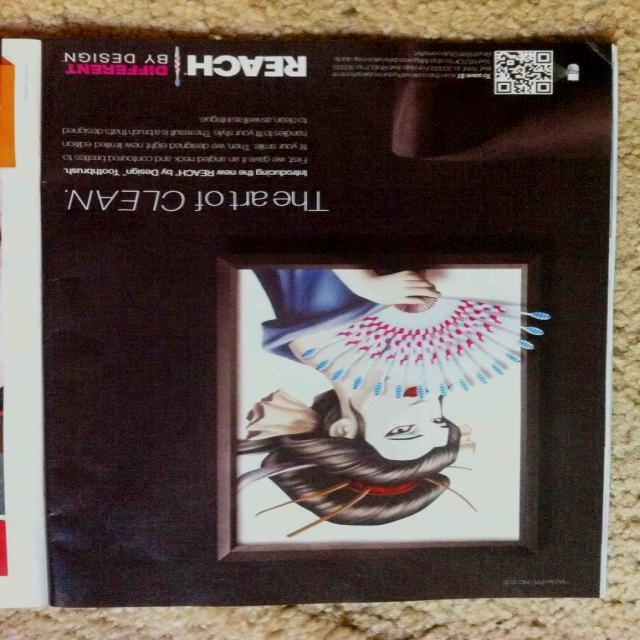qr-code: (496, 52, 552, 94)
